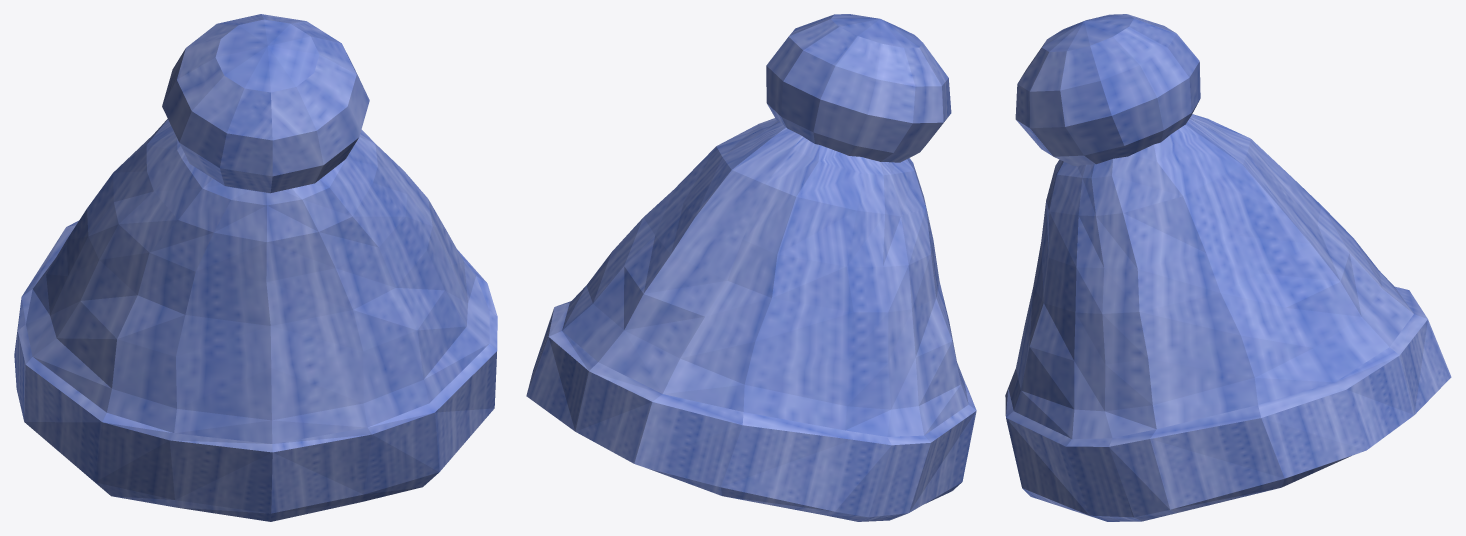
Rendered from BLUE POMPOM HAT.fbx.
3 renders of one model, left to right at view 1: azimuth 30°, elevation 25°; view 2: azimuth 150°, elevation 25°; view 3: azimuth 270°, elevation 25°, orthographic. The views are drawn at different scales.
Visible parts, largest first — view 1: BLUE_POMPOM_HAT; view 2: BLUE_POMPOM_HAT; view 3: BLUE_POMPOM_HAT.
Boxes of the visible parts, <box> form: BLUE_POMPOM_HAT: <box>14,14,497,521</box>; BLUE_POMPOM_HAT: <box>526,14,976,521</box>; BLUE_POMPOM_HAT: <box>1005,14,1451,521</box>.
Bounding box in the file's own units: 31.38 × 33.13 × 31.25.
